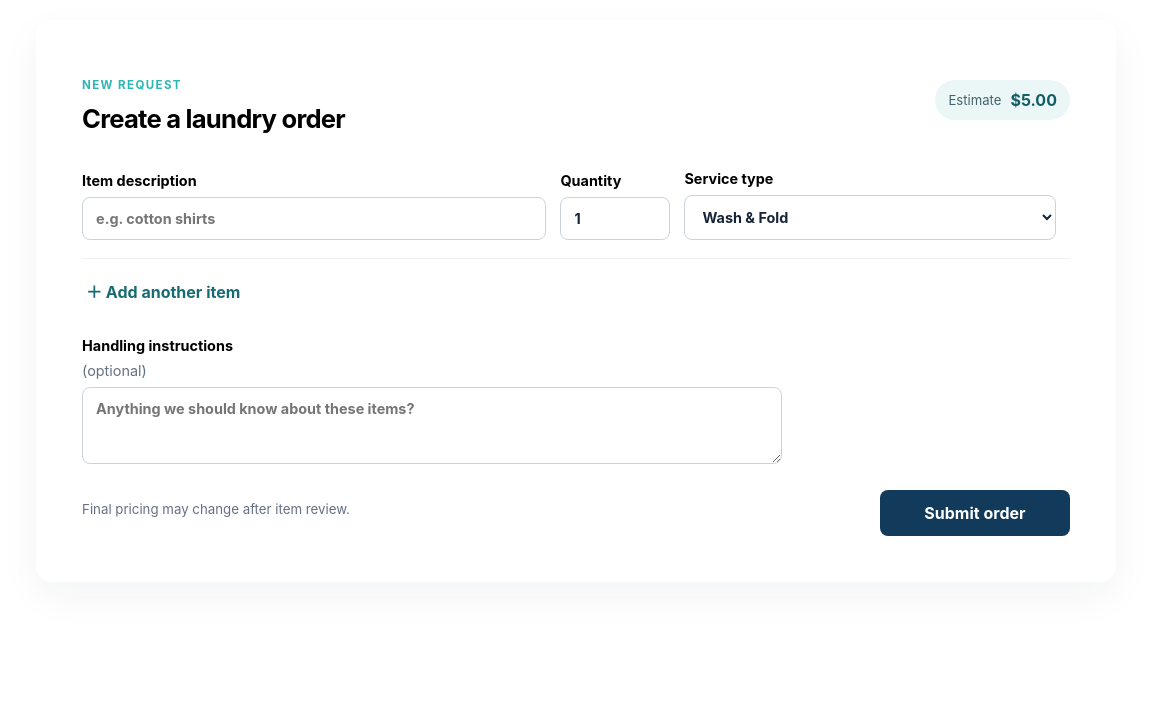
Scenario: CreateOrderForm › adds items and keeps the displayed estimate in sync with quantity and service
This screenshot has width=1152, height=720.
Type "Shirts" into the field labelled "Item description" at (314, 219), box [82, 197, 546, 240]
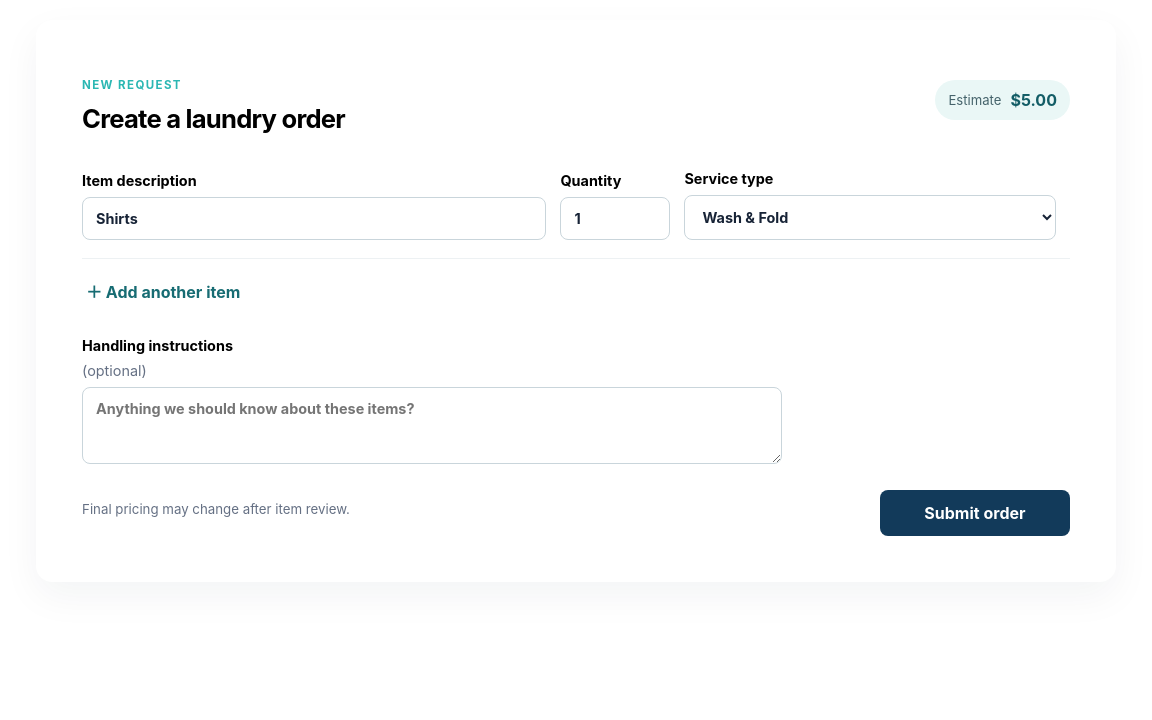
Replace the text in the number field labelled "Quantity" with "2" at (615, 219), box [560, 197, 670, 240]
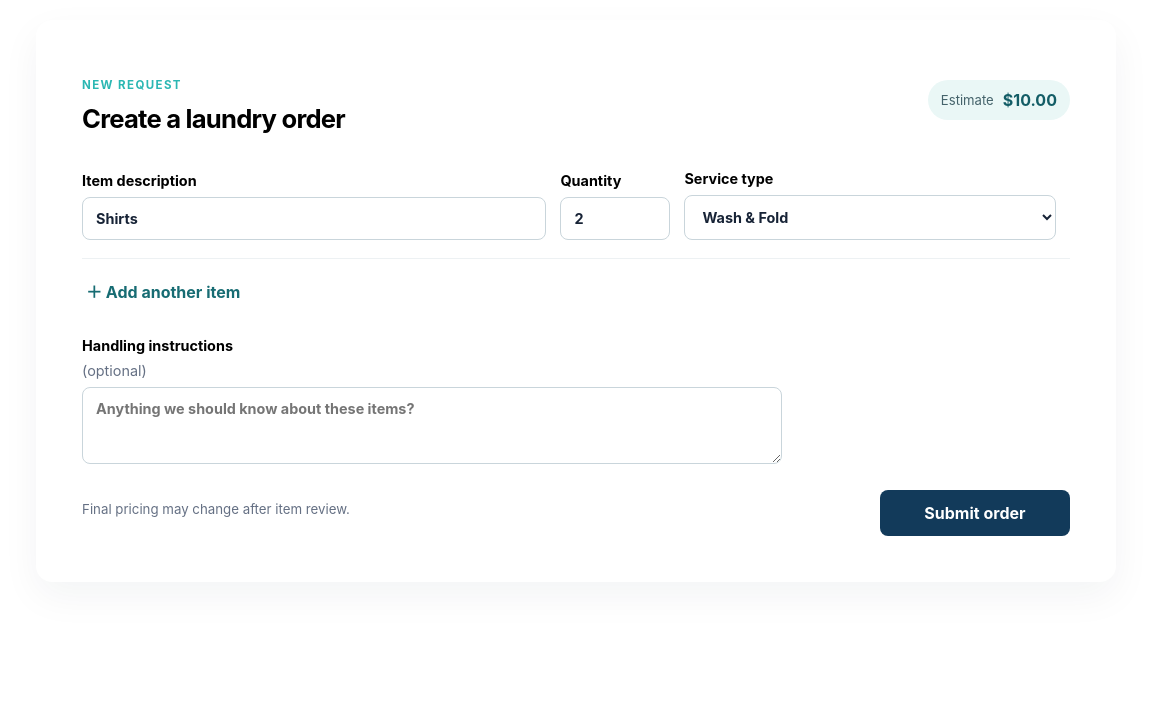
Click the button "＋ Add another item" at (163, 291), box [82, 269, 244, 313]
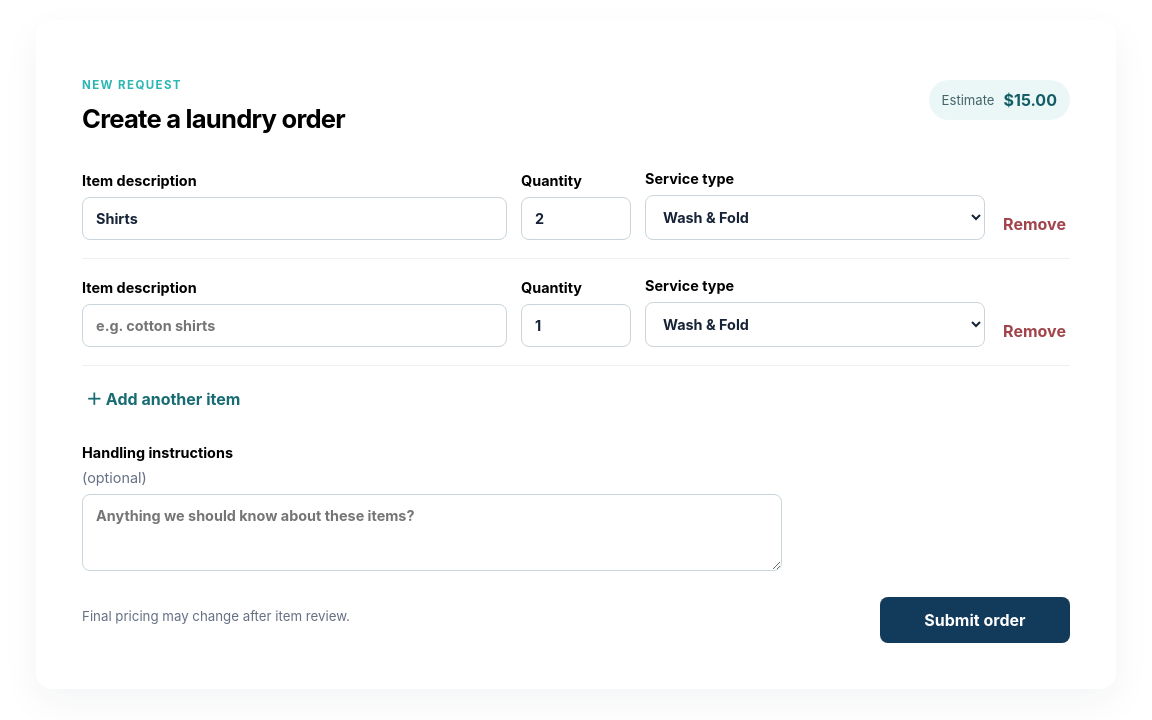
Now the number of fields labelled "Item description" is 2, box [82, 197, 507, 240]; [82, 304, 507, 347]
Now the text "$15.00" is shown, box [1004, 90, 1057, 110]
